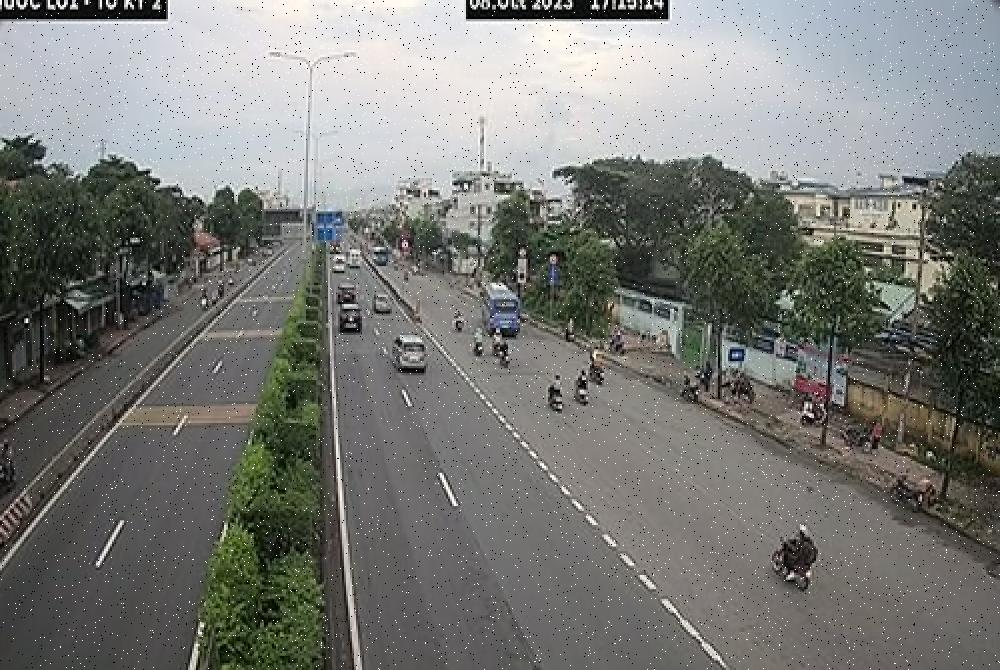bus: (480, 280, 526, 340)
car: (390, 334, 430, 373), (340, 303, 362, 335), (374, 292, 396, 316), (337, 281, 356, 307)
motorbike: (771, 539, 813, 592)
